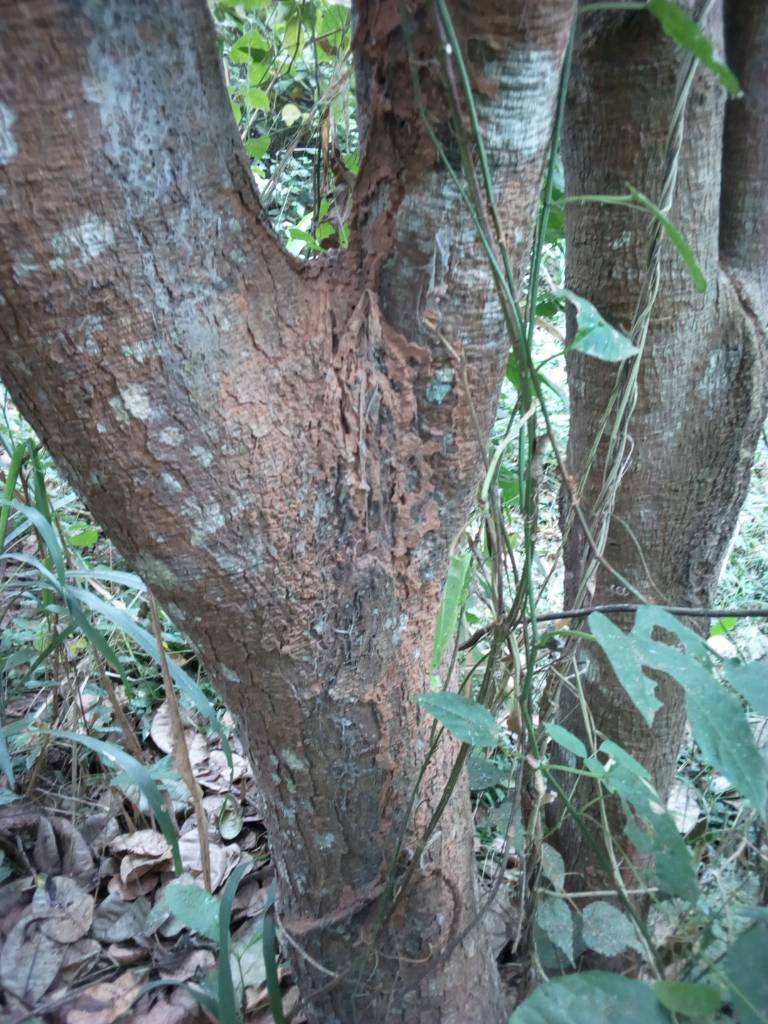Termites: (243, 213, 441, 778)
